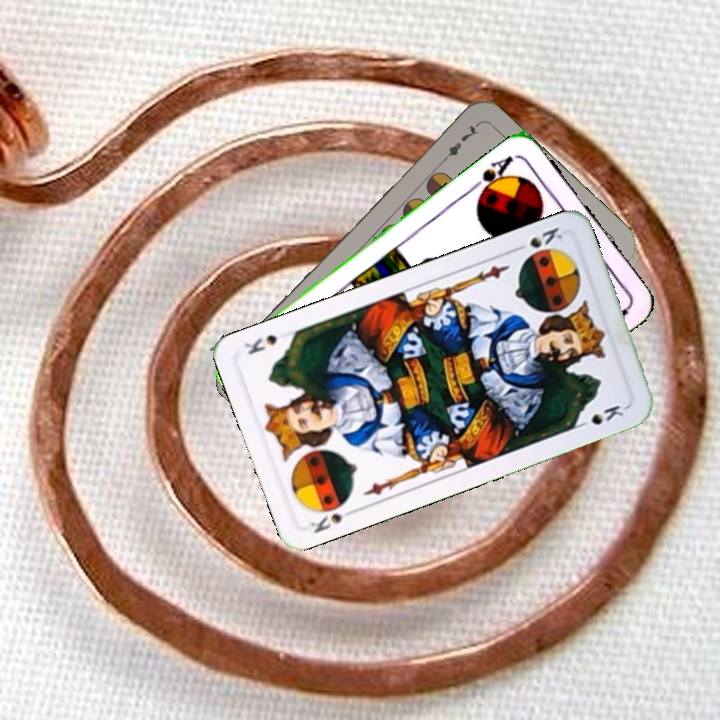E7: (436, 120, 481, 168)
SA: (467, 151, 517, 201)
SK: (509, 223, 565, 255), (306, 504, 359, 536)
